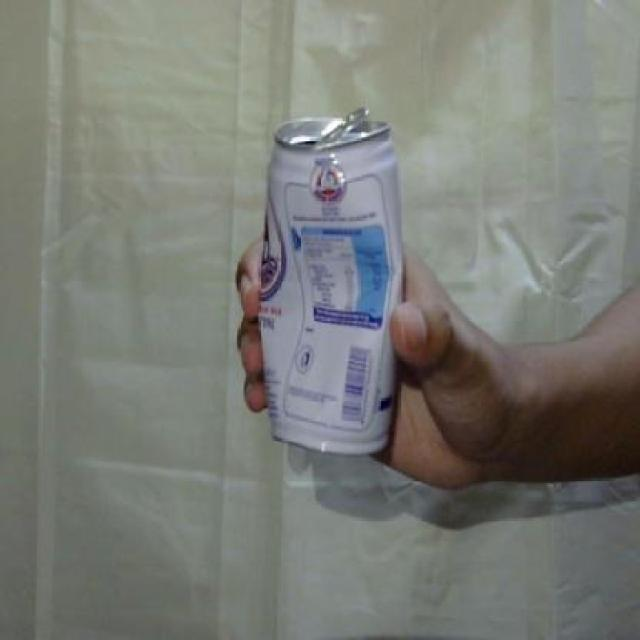Metal: (249, 93, 412, 464)
